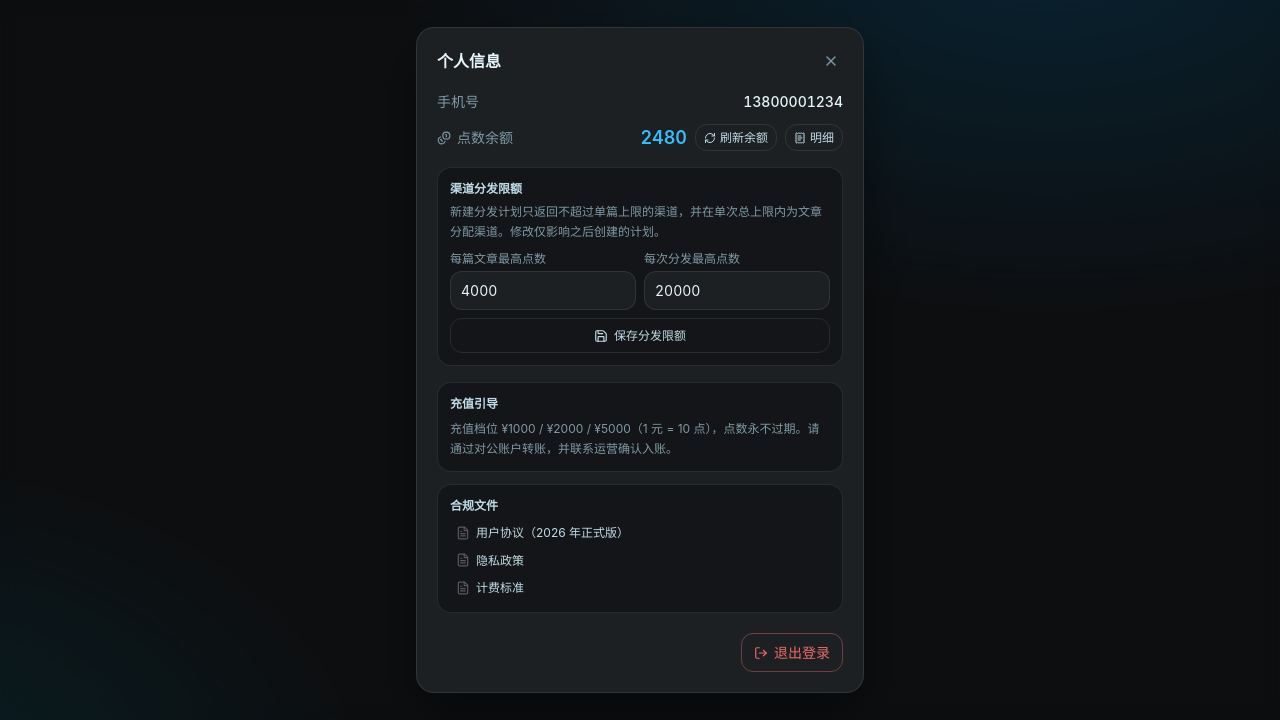
个人信息弹窗的点数明细 › 加载并保存用户填写的单篇与单次分发点数上限
Replace the text in the number field showing "4000" with "3200" at (543, 290), box [450,271,636,310]
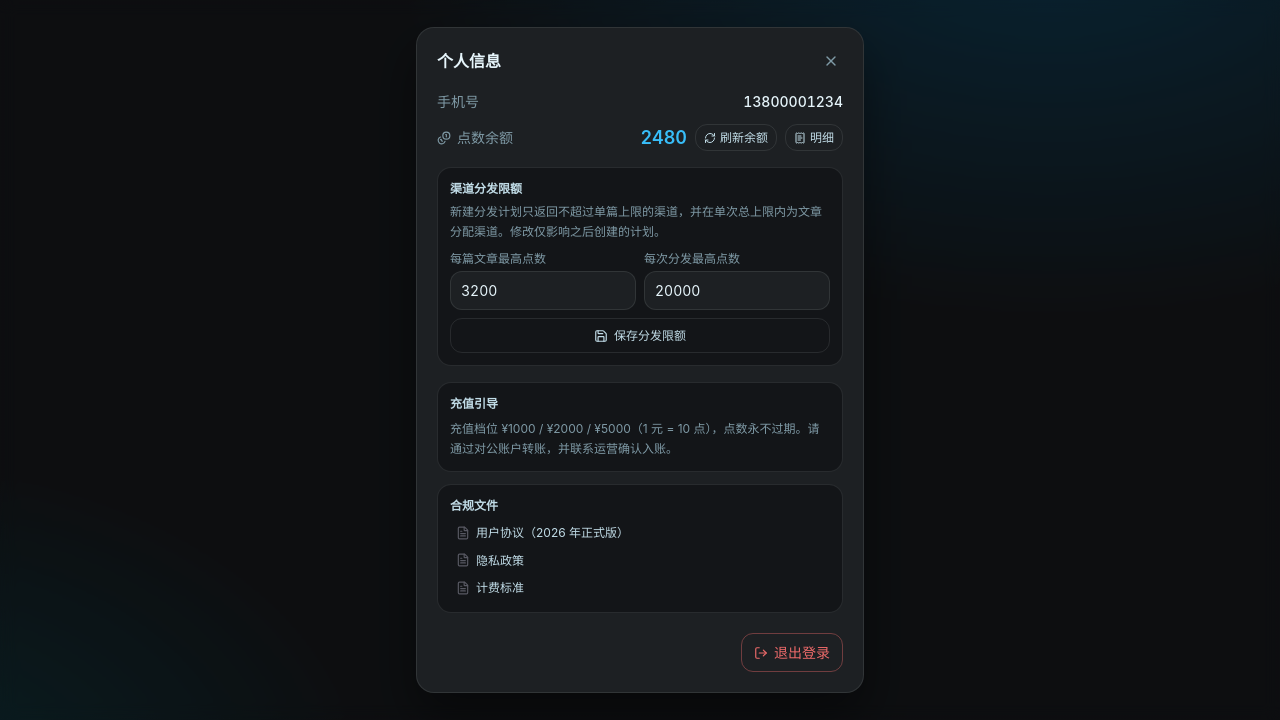
Replace the text in the number field labelled "每次分发最高点数" with "16000" at (737, 290), box [644,271,830,310]
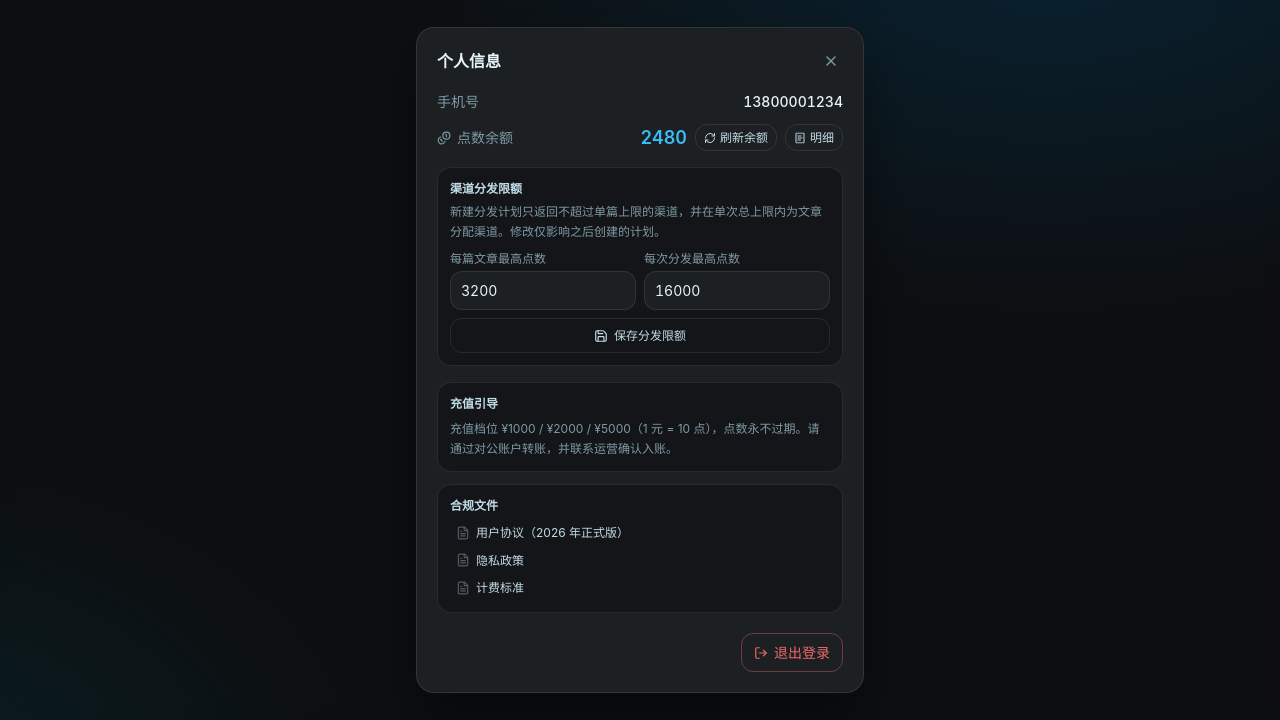
Click the button "保存分发限额" at (640, 336), box [450,318,830,353]
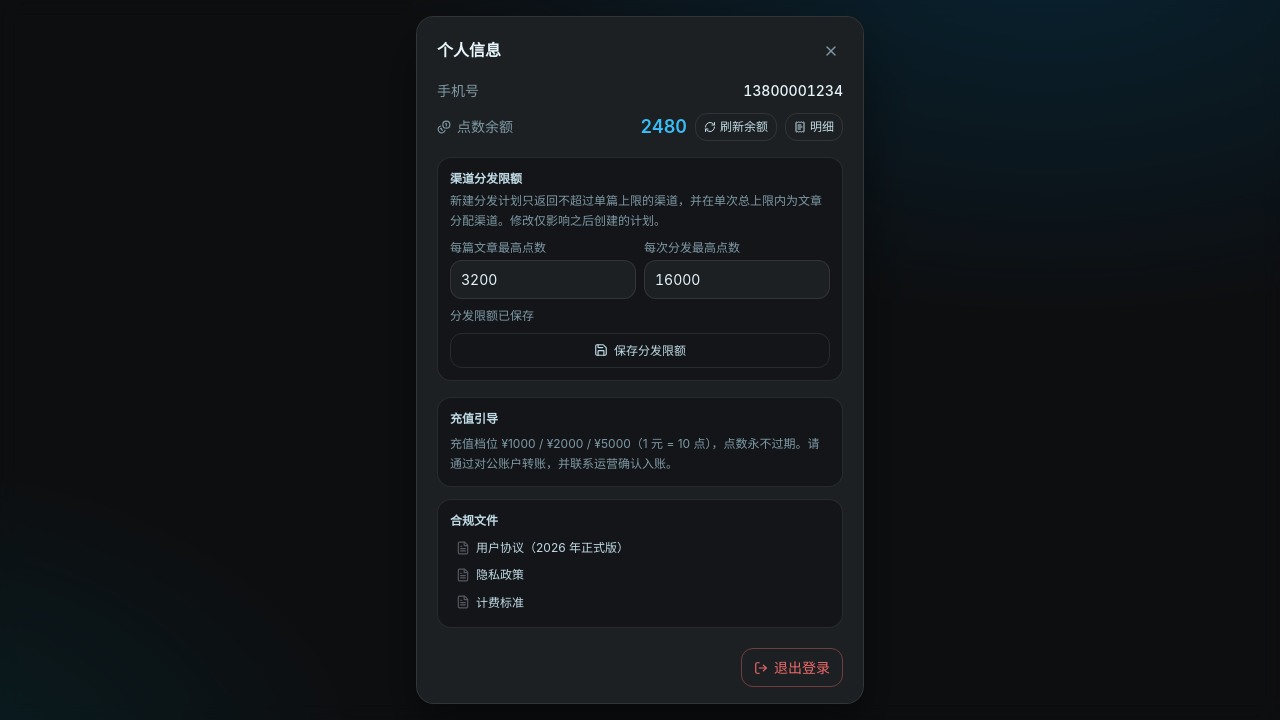
Now the text "分发限额已保存" is shown, box [450,308,534,323]
